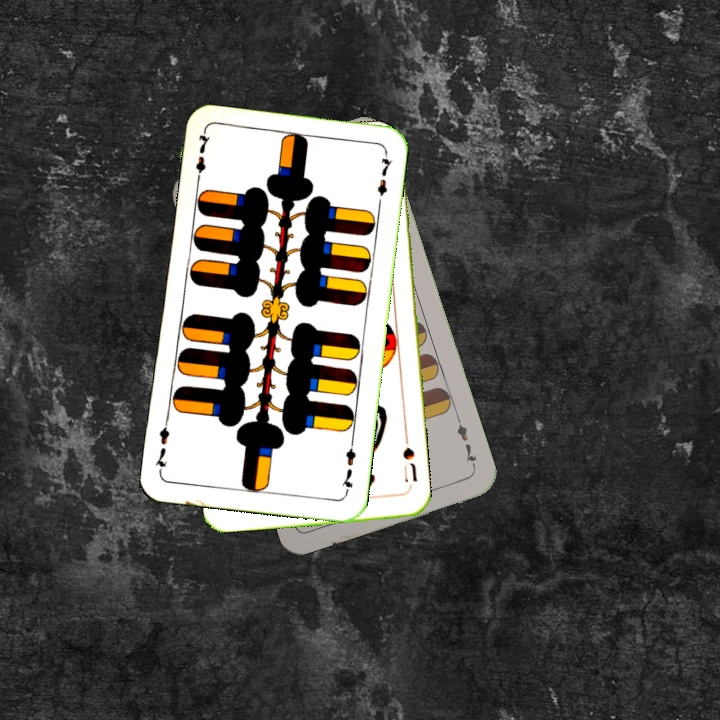E7: (452, 414, 479, 472), (337, 438, 358, 497), (192, 129, 213, 188)
SU: (398, 434, 419, 493)
